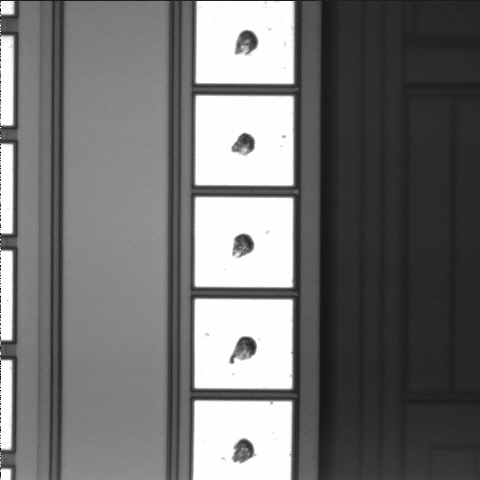pad: (195, 197, 293, 287), (195, 299, 293, 389), (196, 96, 293, 186)
